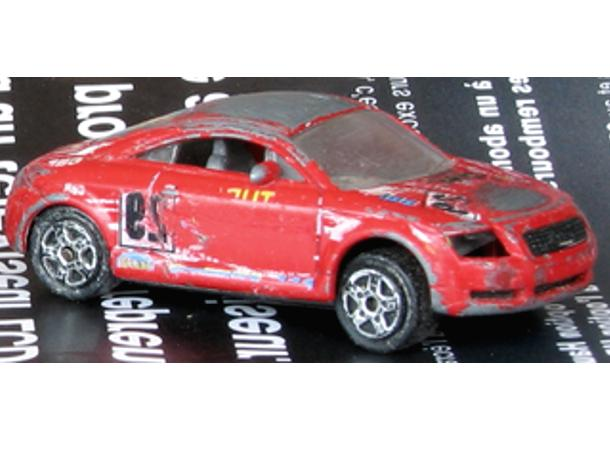toy-car: (4, 90, 600, 354)
